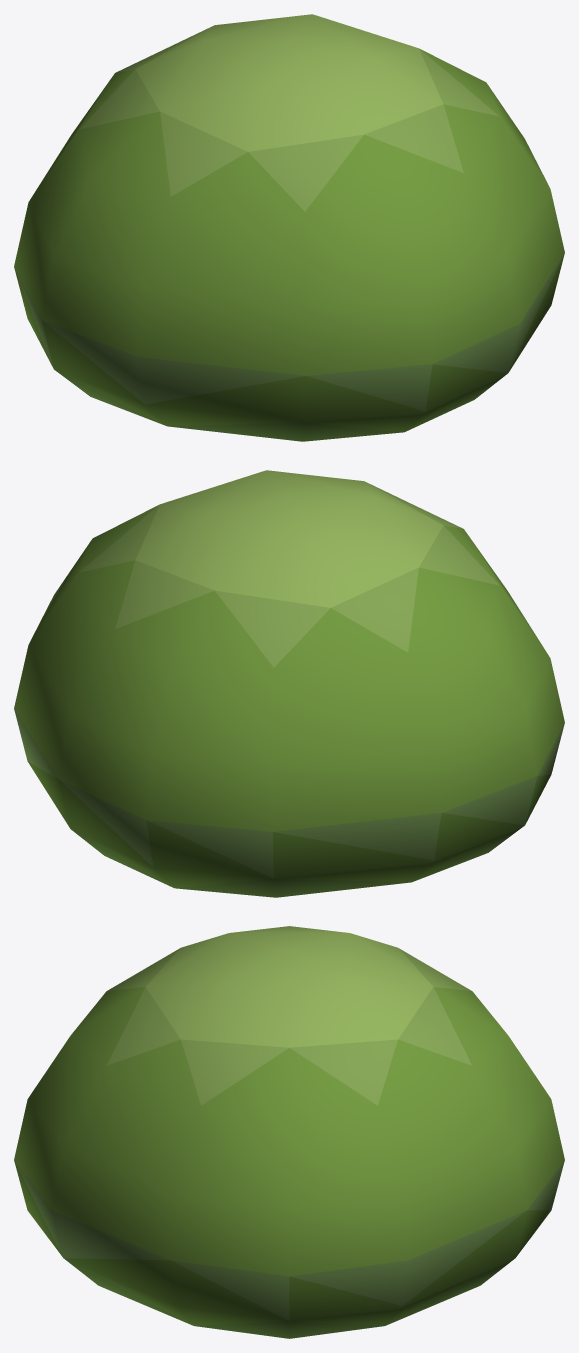
The model's file is itch_kaykit_forest_bush_1_d_color1.glb.
3 views of the same model, one above another, from view 1: azimuth 30°, elevation 25°; view 2: azimuth 150°, elevation 25°; view 3: azimuth 270°, elevation 25° (orthographic). The views are drawn at different scales.
Visible parts, largest first — view 1: Bush_1_D_Color1; view 2: Bush_1_D_Color1; view 3: Bush_1_D_Color1.
Boxes of the visible parts, <box> form: Bush_1_D_Color1: <box>14,14,564,441</box>; Bush_1_D_Color1: <box>14,470,564,897</box>; Bush_1_D_Color1: <box>14,926,564,1338</box>.
Bounding box in the file's own units: 0.96 × 0.6089 × 0.96.
